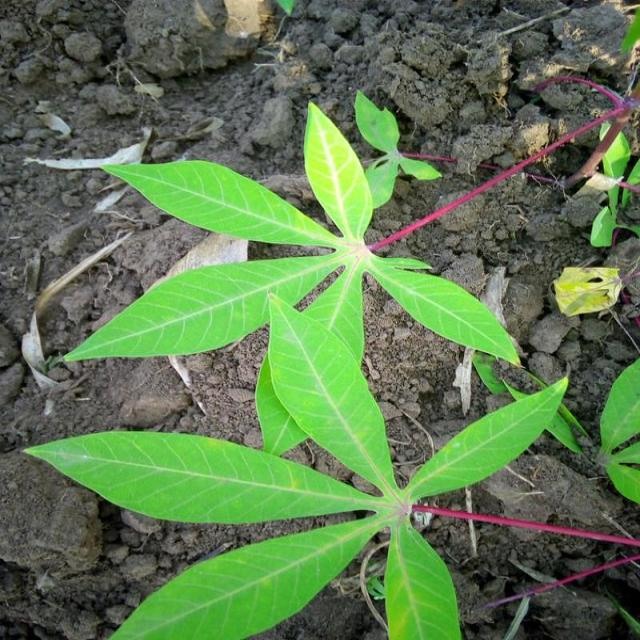cassava leaf: (22, 88, 604, 637), (21, 428, 388, 525), (107, 511, 385, 639), (264, 290, 401, 503), (100, 157, 342, 248), (404, 374, 571, 504), (302, 99, 373, 242)
